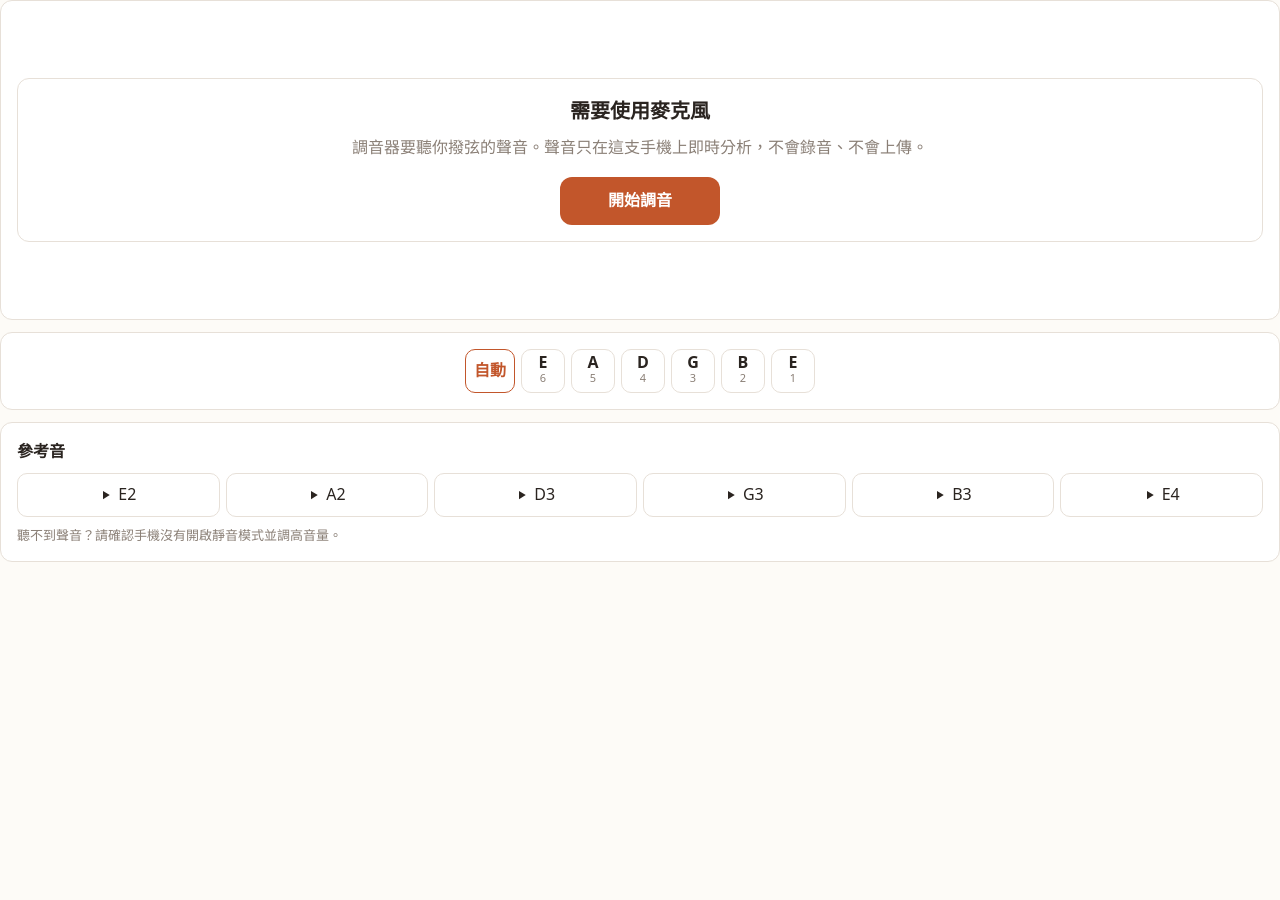
Test: TunerPanel phases (TUN-50–59) › shows "playing reference" while a tone plays during tuning (TUN-92)
Click the button with test id "tuner-start" at (640, 201), box [560,177,720,225]
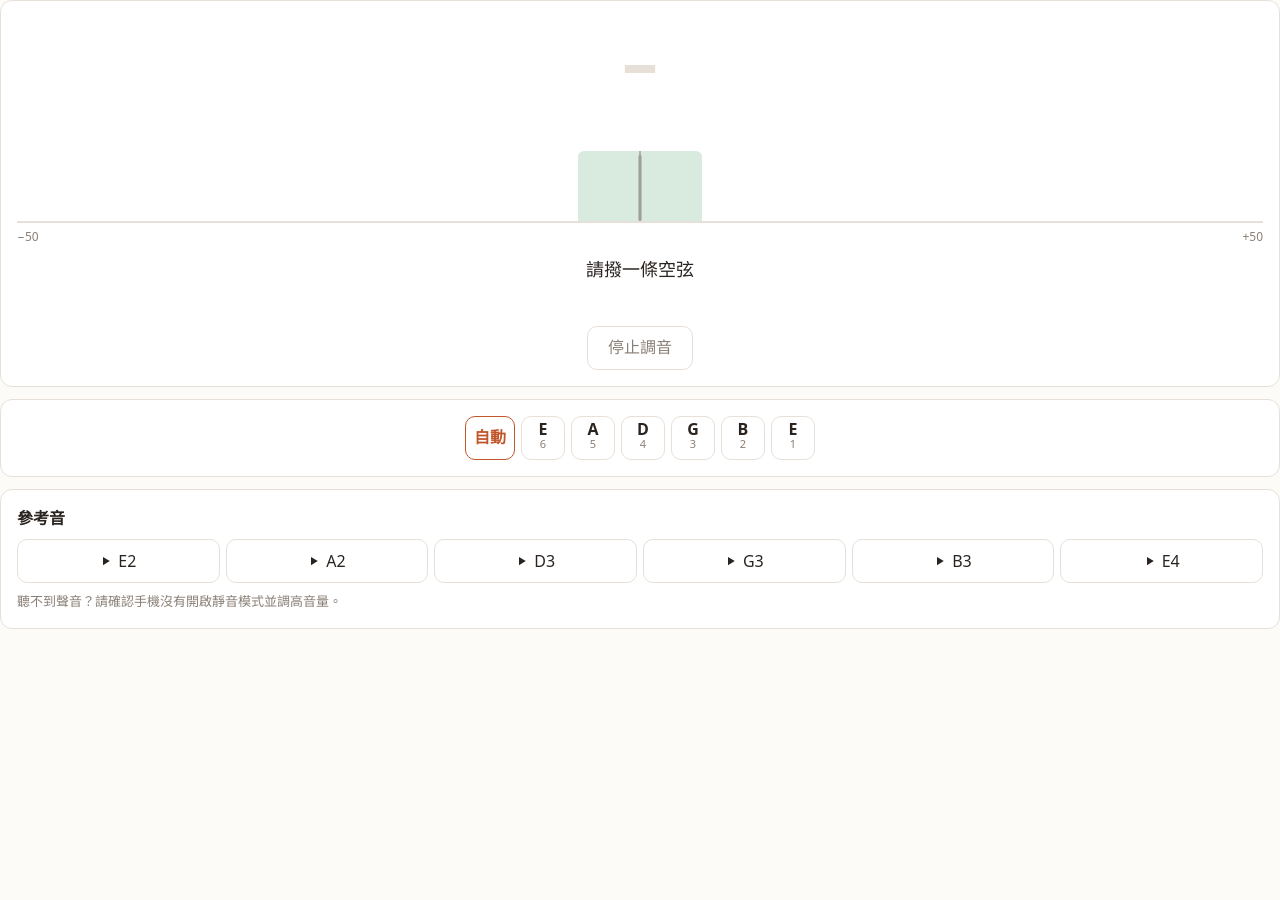
Click the button with test id "reference-2" at (536, 561), box [434,539,637,583]
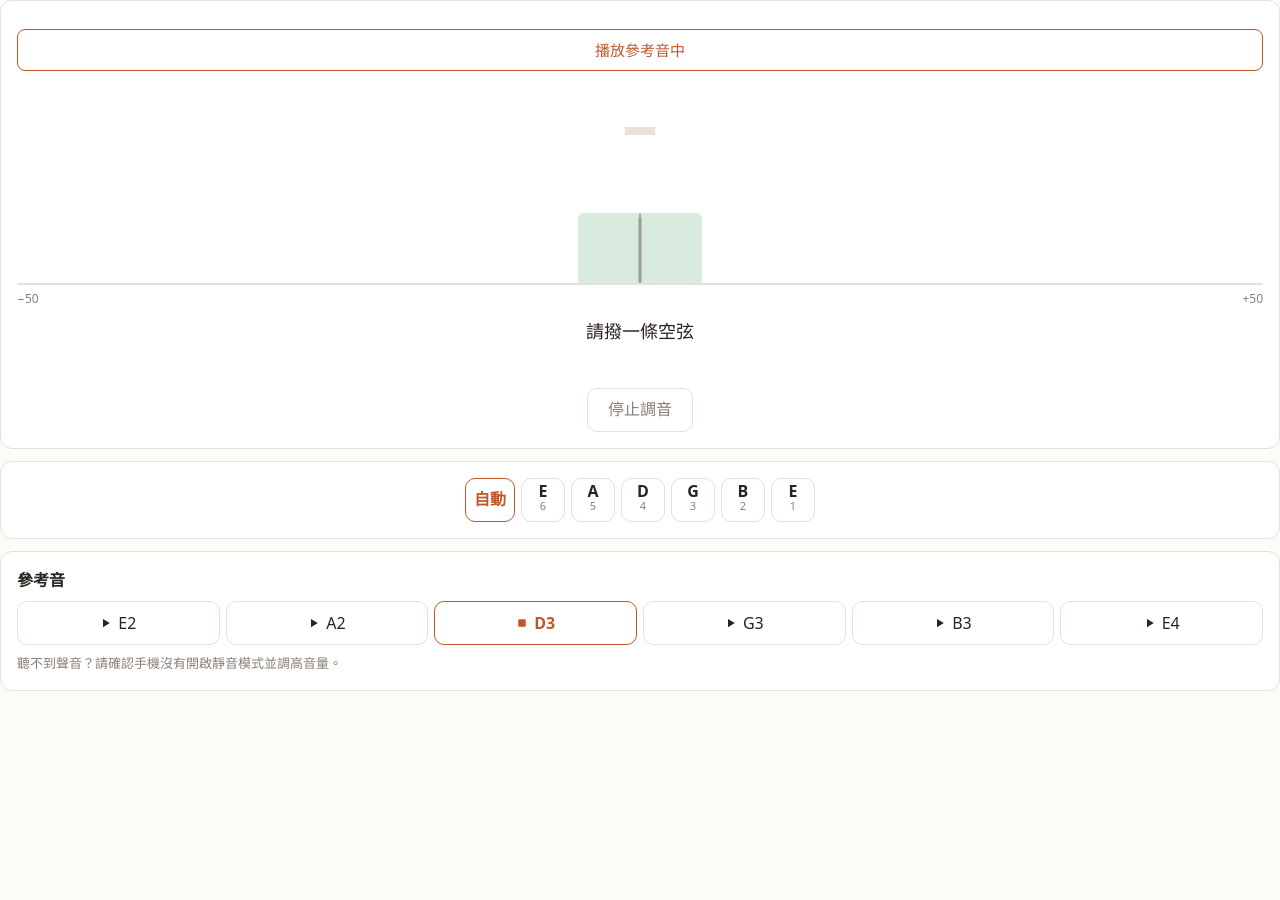
Now the text with test id "reference-banner" reads "播放參考音中", box [595,40,685,60]
